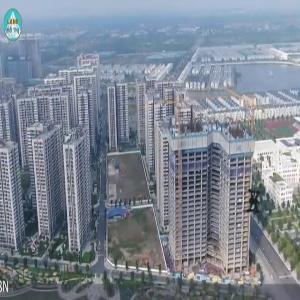drone: (215, 159, 297, 241)
